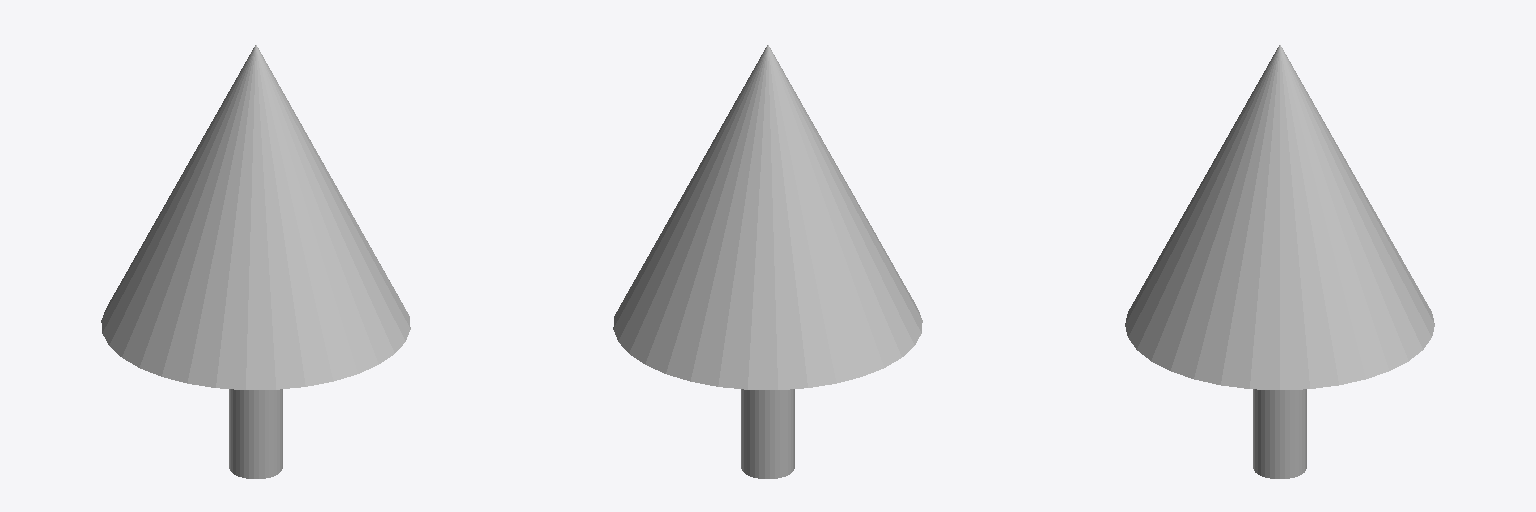
The model's file is minegistics_tree.obj.
3 renders of one model, left to right at view 1: azimuth 30°, elevation 25°; view 2: azimuth 150°, elevation 25°; view 3: azimuth 270°, elevation 25°, orthographic.
Visible parts, largest first — view 1: Cylinder; view 2: Cylinder; view 3: Cylinder.
Part boxes in pixels (x1,y1,x2,y2): Cylinder: (101, 45, 410, 478); Cylinder: (613, 45, 922, 478); Cylinder: (1125, 45, 1434, 478).
Bounding box in the file's own units: 0.9886 × 1.49 × 0.9886.